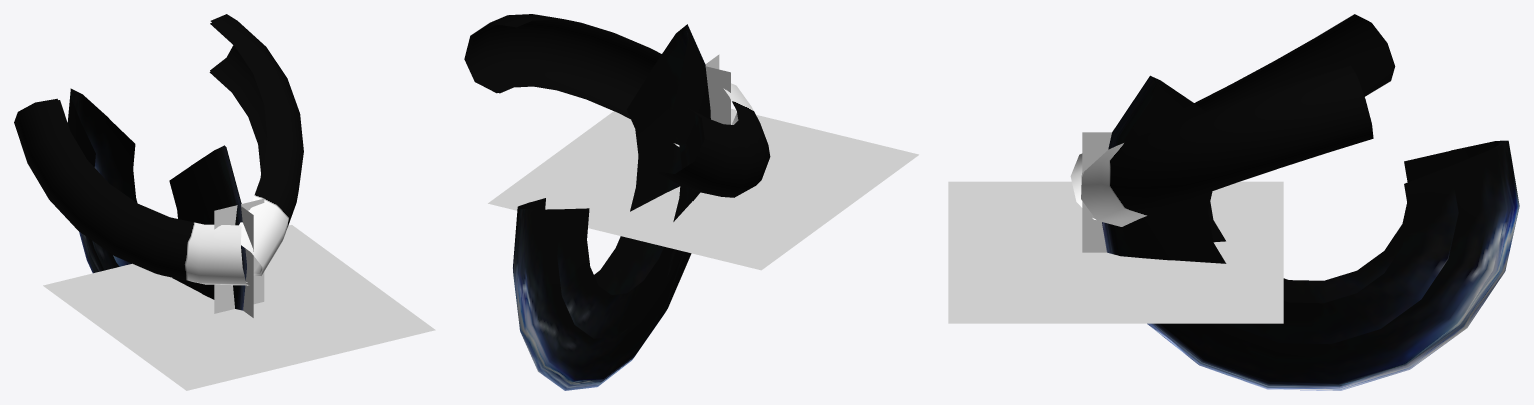
Rendered from lidie2.FBX.
The picture shows the model from 3 angles, left to right: view 1: azimuth 30°, elevation 25°; view 2: azimuth 150°, elevation 25°; view 3: azimuth 270°, elevation 25°; orthographic projection. The views are drawn at different scales.
Parts seen in each view (by area): view 1: Plane01, Cylinder02, Tube01, Tube02, Cylinder01, Plane02; view 2: Plane01, Tube01, Tube02, Cylinder01, Cylinder02, Plane02; view 3: Plane01, Tube02, Cylinder02, Tube01, Cylinder01, Plane02.
Boxes of the visible parts, x1,y1,x2,y2 form: Plane01: (43,225,435,390); Cylinder02: (14,14,303,285); Tube01: (71,90,204,293); Tube02: (67,88,246,310); Cylinder01: (58,23,268,282); Plane02: (214,198,264,317); Plane01: (488,108,918,270); Tube01: (519,27,698,338); Tube02: (513,24,710,390); Cylinder01: (468,18,739,175); Cylinder02: (464,14,770,197); Plane02: (705,54,730,124); Plane01: (948,181,1283,323); Tube02: (1102,75,1519,390); Cylinder02: (1070,14,1395,226); Tube01: (1153,78,1504,343); Cylinder01: (1073,16,1391,202); Plane02: (1082,132,1111,252).
Bounding box in the file's own units: 5 × 8.52 × 6.03.
